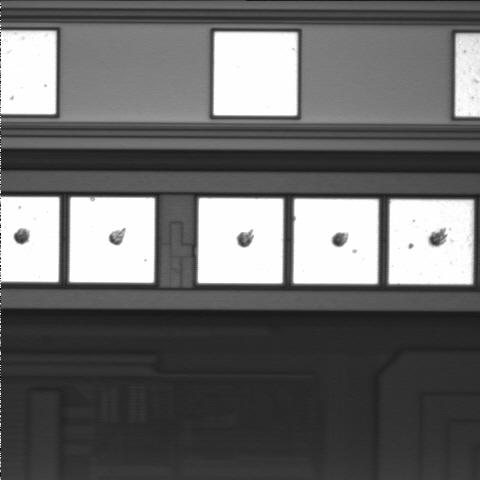pad: (69, 197, 155, 283), (198, 198, 283, 283), (293, 199, 378, 284), (389, 200, 473, 284), (214, 32, 297, 116)
